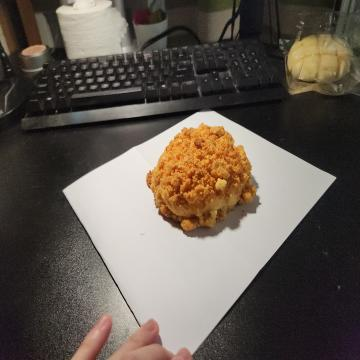soboru_bread: (145, 125, 257, 231)
